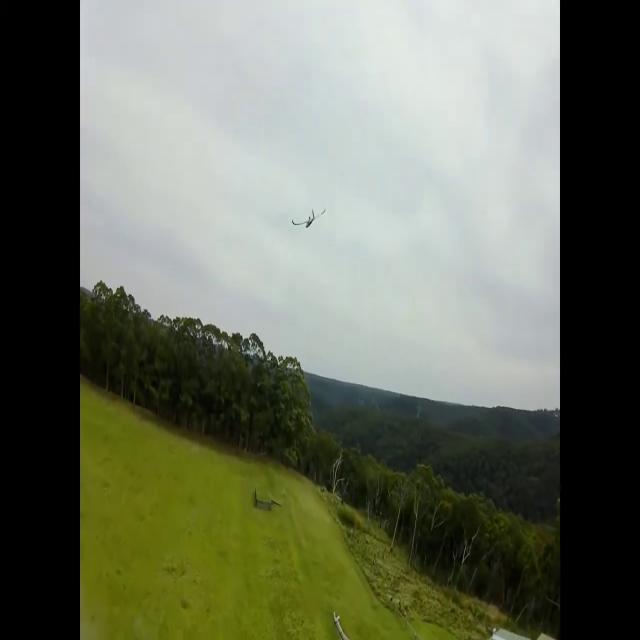iha: (292, 208, 326, 228)
